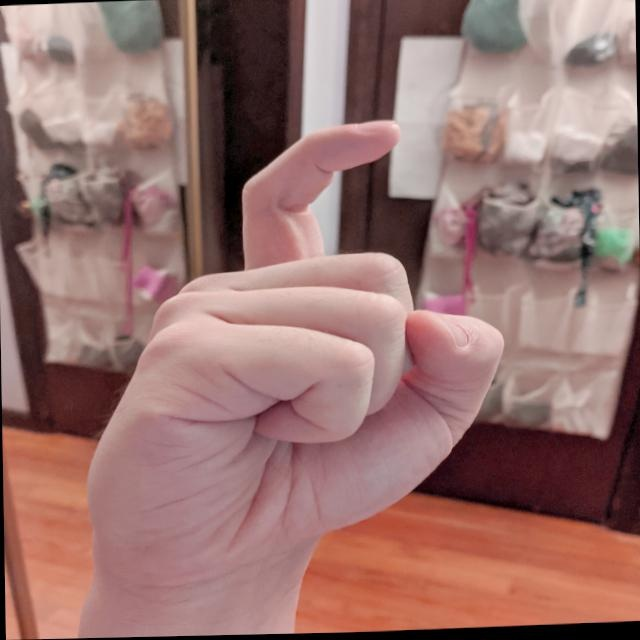X: (69, 109, 522, 566)
